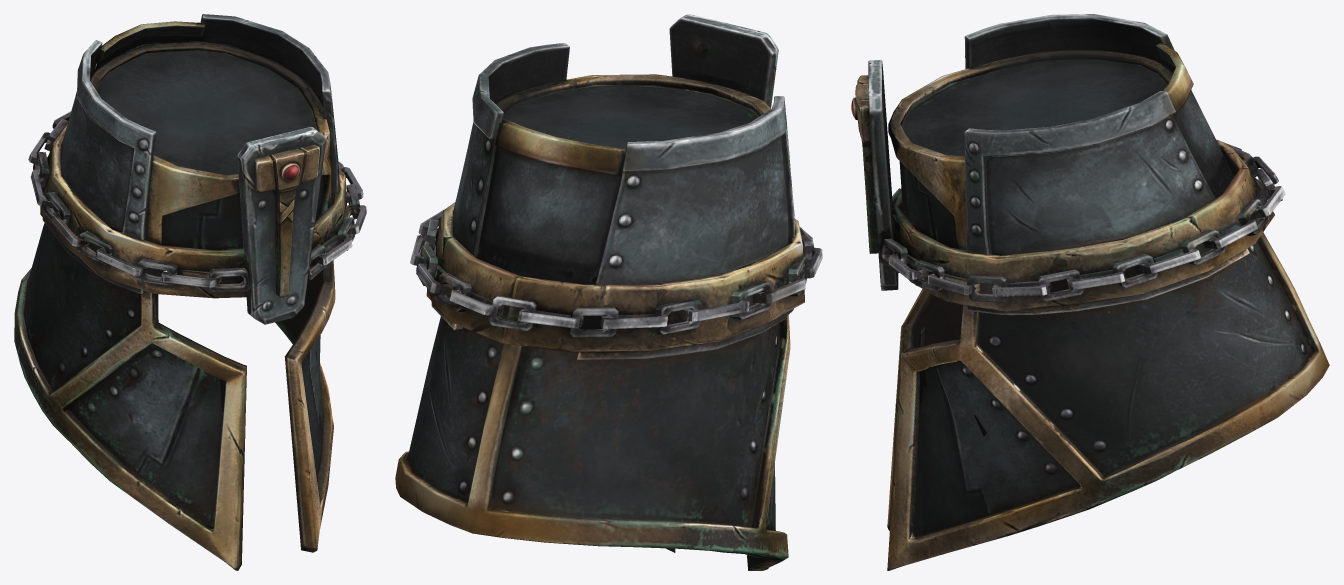
Rendered from sm_yun_heodedna_helmet.gltf.
3 renders of one model, left to right at view 1: azimuth 30°, elevation 25°; view 2: azimuth 150°, elevation 25°; view 3: azimuth 270°, elevation 25°, orthographic. The views are drawn at different scales.
Visible parts, largest first — view 1: sm_yun_heodedna_helmet; view 2: sm_yun_heodedna_helmet; view 3: sm_yun_heodedna_helmet.
Boxes of the visible parts, <box> form: sm_yun_heodedna_helmet: <box>14,14,366,570</box>; sm_yun_heodedna_helmet: <box>395,14,822,570</box>; sm_yun_heodedna_helmet: <box>851,14,1329,570</box>.
Size of the model in its own units: 36.42 by 54.64 by 48.55.
1 material, 1 textured.
